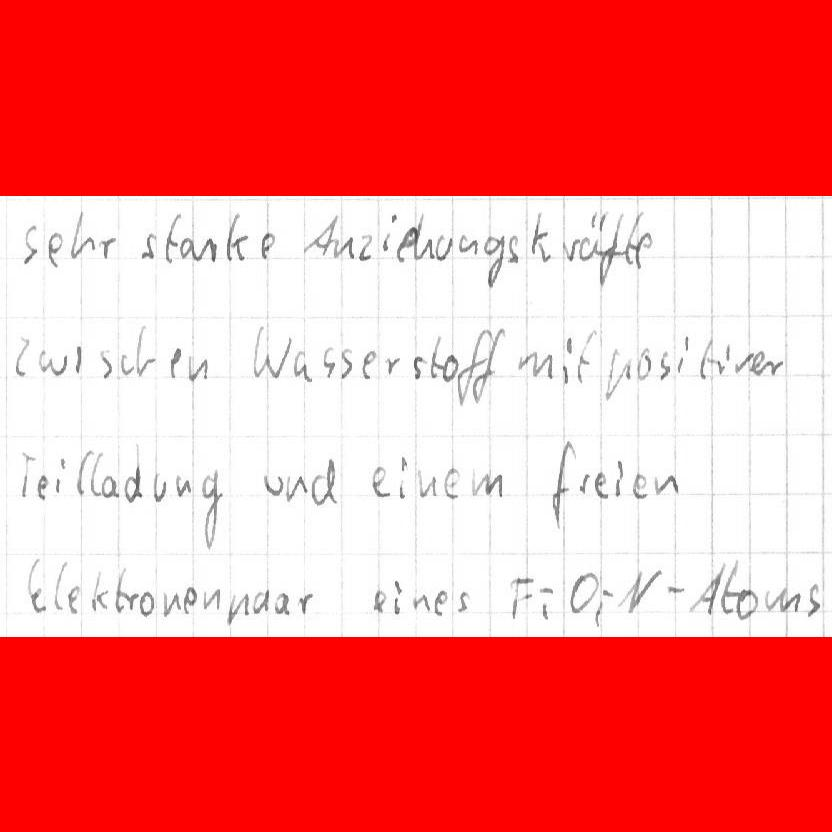Char: (472, 326, 505, 406), (548, 438, 575, 527), (456, 326, 485, 407), (251, 322, 290, 378), (687, 564, 727, 618), (199, 468, 224, 549), (620, 567, 661, 615), (597, 212, 622, 288), (302, 214, 339, 257), (604, 346, 630, 401), (580, 209, 607, 261), (133, 323, 158, 379), (312, 455, 338, 508), (397, 210, 422, 263), (508, 575, 534, 624), (568, 570, 595, 617), (69, 209, 94, 258), (224, 212, 248, 263), (26, 556, 47, 614), (576, 330, 598, 385), (516, 348, 553, 380), (720, 557, 739, 615), (528, 212, 549, 262), (484, 234, 503, 289), (764, 586, 798, 614), (113, 566, 133, 613), (16, 448, 34, 500), (472, 469, 501, 501), (39, 346, 68, 378), (75, 450, 95, 495), (226, 588, 247, 629), (164, 213, 181, 263), (12, 336, 32, 378), (696, 337, 715, 381), (90, 567, 109, 611), (52, 559, 68, 611), (22, 222, 40, 268), (536, 583, 556, 622), (734, 587, 757, 620), (425, 233, 452, 261), (634, 230, 653, 269), (380, 212, 397, 255), (733, 350, 760, 376), (371, 464, 391, 499), (123, 467, 143, 502), (674, 333, 689, 379), (187, 349, 208, 381), (595, 587, 613, 624), (286, 471, 307, 502), (46, 231, 64, 267), (442, 352, 460, 388), (417, 471, 439, 499), (293, 348, 311, 382), (625, 220, 638, 267), (53, 456, 68, 496), (805, 583, 823, 616), (294, 590, 315, 618), (162, 589, 182, 618), (428, 336, 441, 380), (358, 350, 377, 380), (398, 453, 410, 500), (561, 336, 573, 383), (338, 346, 355, 379), (139, 233, 159, 261), (637, 345, 653, 380), (655, 473, 679, 496), (258, 232, 277, 261), (251, 587, 270, 616), (332, 234, 354, 259), (443, 468, 460, 500), (321, 345, 337, 379), (97, 233, 117, 260), (98, 350, 116, 380), (761, 354, 784, 377), (263, 472, 284, 497), (197, 234, 215, 263), (612, 458, 625, 498), (632, 472, 651, 499), (656, 349, 672, 381), (357, 233, 375, 261), (412, 590, 432, 615), (167, 344, 181, 379), (174, 472, 192, 499), (137, 590, 155, 617), (391, 579, 404, 616), (66, 585, 82, 615), (381, 353, 401, 377), (432, 589, 449, 617), (151, 474, 168, 502), (506, 232, 521, 263), (273, 591, 291, 616), (562, 236, 580, 261), (455, 589, 473, 614), (593, 471, 609, 499), (457, 233, 478, 254), (201, 587, 220, 610), (36, 471, 50, 501), (371, 588, 387, 614), (718, 344, 731, 376), (101, 476, 118, 500), (181, 237, 197, 261), (72, 344, 84, 376), (184, 584, 197, 613), (576, 472, 591, 496), (119, 353, 134, 376), (665, 582, 686, 598), (412, 357, 426, 381)
